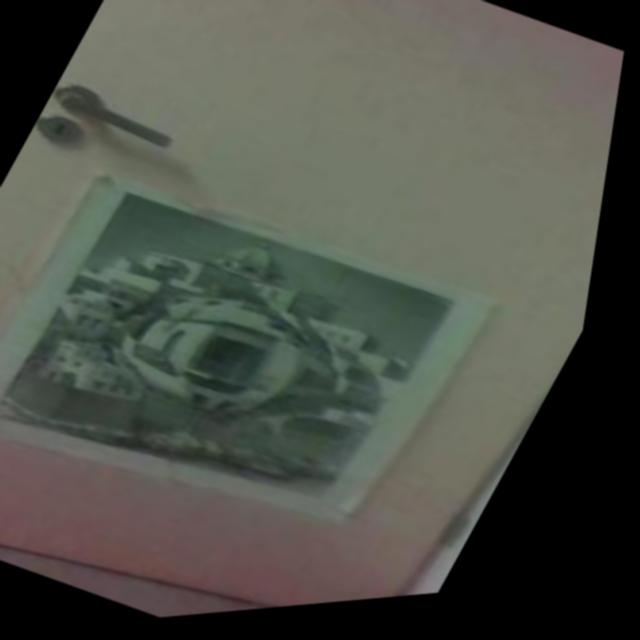door_handle: (41, 71, 197, 176)
